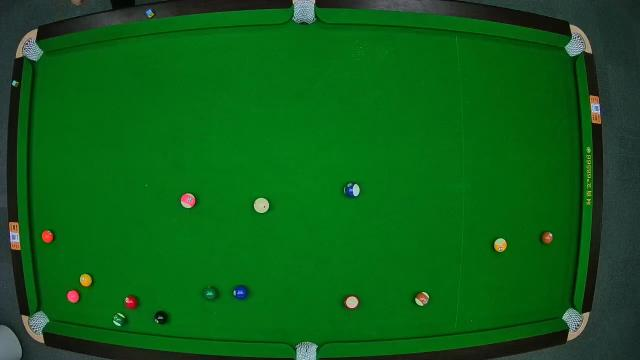bag1: (20, 39, 40, 58)
bag2: (292, 0, 316, 24)
bag3: (566, 33, 588, 57)
bag4: (28, 311, 46, 333)
bag5: (294, 340, 318, 360)
bag6: (562, 310, 582, 330)
ball0: (254, 196, 270, 214)
ball1: (80, 273, 94, 287)
ball10: (344, 182, 360, 198)
ball11: (346, 294, 360, 310)
ball12: (180, 192, 196, 210)
ball14: (112, 312, 128, 328)
ball15: (416, 291, 430, 307)
ball2: (233, 284, 249, 300)
ball3: (124, 294, 138, 310)
ball4: (68, 289, 80, 304)
ball5: (40, 229, 54, 243)
ball6: (203, 286, 219, 300)
ball7: (542, 230, 554, 244)
ball8: (154, 310, 168, 324)
ball9: (493, 237, 507, 253)
